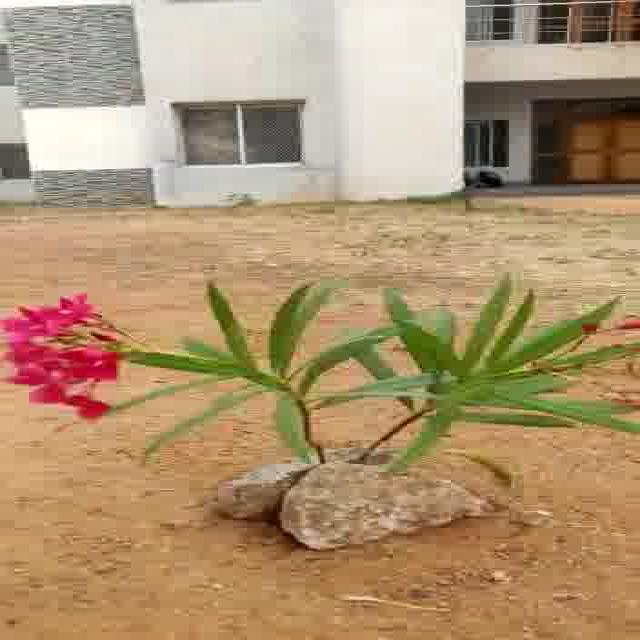Oleander: (0, 256, 611, 459)
